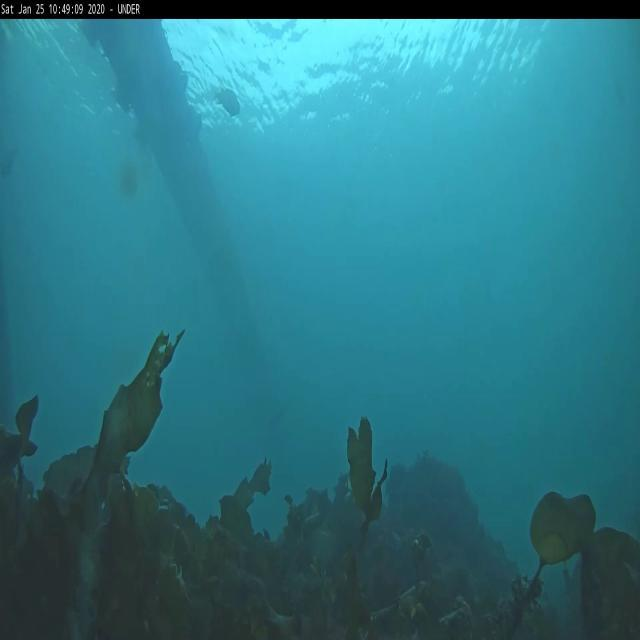fish: (218, 93, 239, 117)
